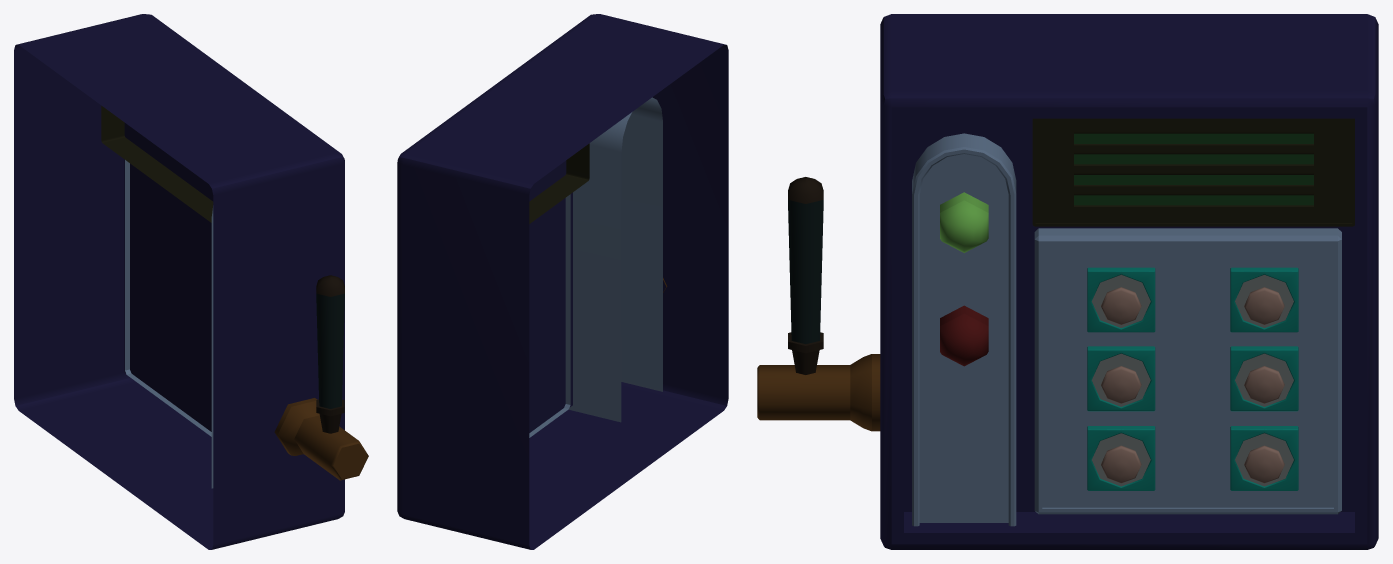
The model's file is SM_BoitierCommande.fbx.
3 renders of one model, left to right at view 1: azimuth 30°, elevation 25°; view 2: azimuth 150°, elevation 25°; view 3: azimuth 270°, elevation 25°, orthographic. The views are drawn at different scales.
Parts seen in each view (by area): view 1: Boitier_de_commande, Manivelle; view 2: Boitier_de_commande; view 3: Boitier_de_commande, Manivelle.
Boxes of the visible parts, box(x1,y1,x2,y2) form: Boitier_de_commande: box(14, 14, 344, 549); Manivelle: box(274, 275, 368, 480); Boitier_de_commande: box(397, 14, 728, 549); Boitier_de_commande: box(880, 14, 1378, 549); Manivelle: box(757, 177, 880, 431).
Size of the model in its own units: 12.05 by 28.4 by 34.94.
